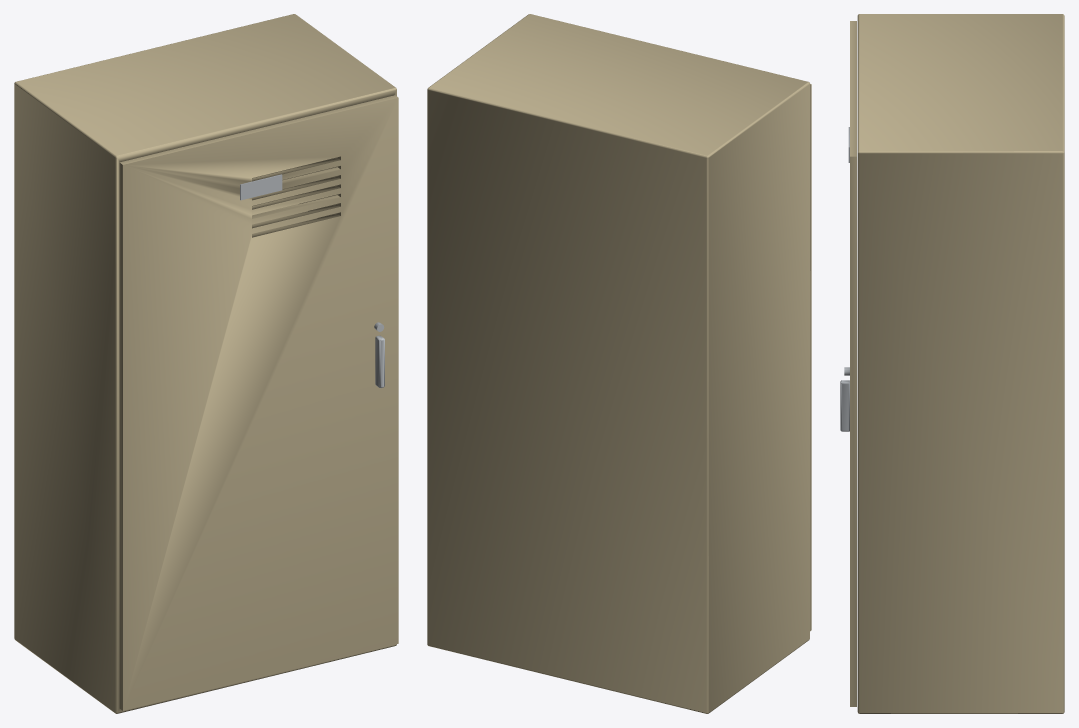
The model's file is cabinet.glb.
3 renders of one model, left to right at view 1: azimuth 30°, elevation 25°; view 2: azimuth 150°, elevation 25°; view 3: azimuth 270°, elevation 25°, orthographic.
Parts seen in each view (by area): view 1: Anta, Armadio; view 2: Armadio, Anta; view 3: Armadio, Anta.
Part boxes in pixels (x1,y1,x2,y2): Anta: (119, 95, 398, 710); Armadio: (14, 14, 396, 713); Armadio: (427, 14, 810, 713); Anta: (810, 84, 811, 631); Armadio: (857, 14, 1064, 713); Anta: (840, 21, 856, 706).
Size of the model in its own units: 0.95 by 1.8 by 0.65.
